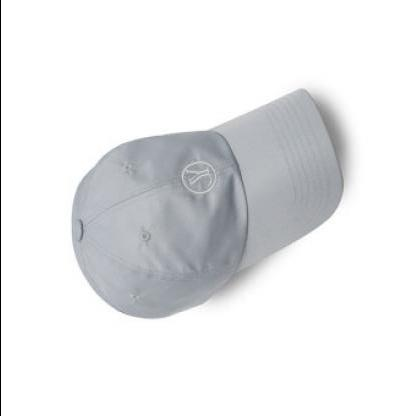cap: (61, 80, 344, 326)
